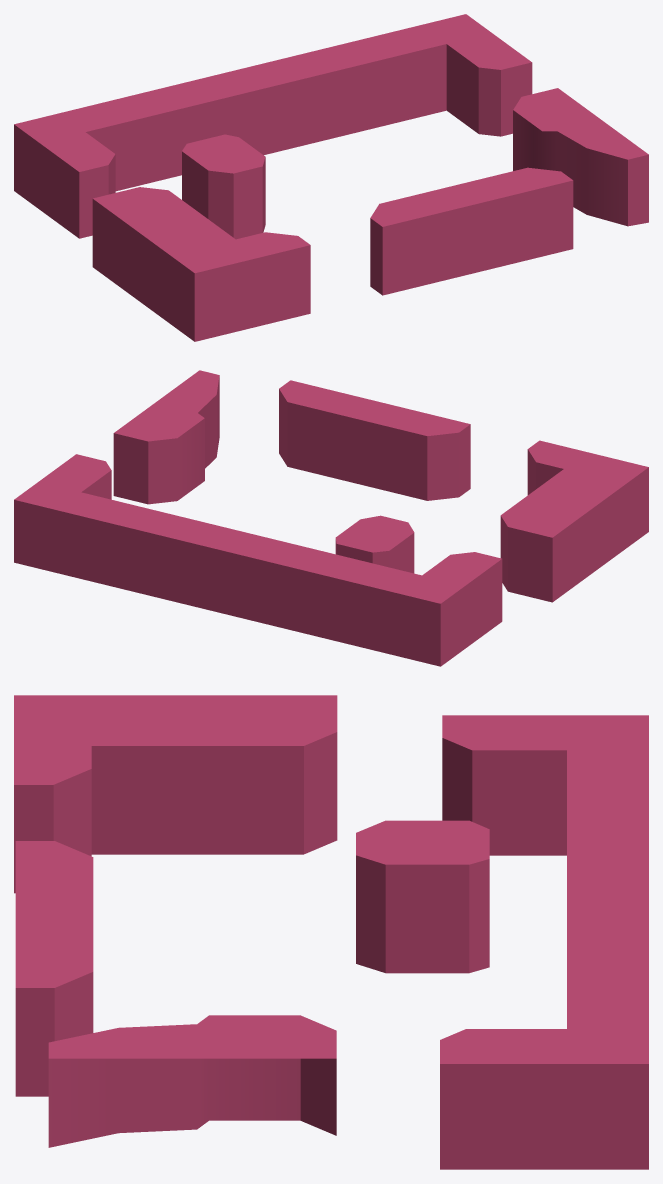
Rendered from CenterTop_Colliders.fbx.
3 views of the same model, one above another, from view 1: azimuth 30°, elevation 25°; view 2: azimuth 150°, elevation 25°; view 3: azimuth 270°, elevation 25° (orthographic). The views are drawn at different scales.
Visible parts, largest first — view 1: CenterTop_Colliders1_pCube1; view 2: CenterTop_Colliders1_pCube1; view 3: CenterTop_Colliders1_pCube1.
Boxes of the visible parts, x1=… form: CenterTop_Colliders1_pCube1: x1=14, y1=14, x2=648, y2=341; CenterTop_Colliders1_pCube1: x1=14, y1=370, x2=648, y2=666; CenterTop_Colliders1_pCube1: x1=14, y1=695, x2=648, y2=1169.
Bounding box in the file's own units: 1823 × 309 × 1343.
